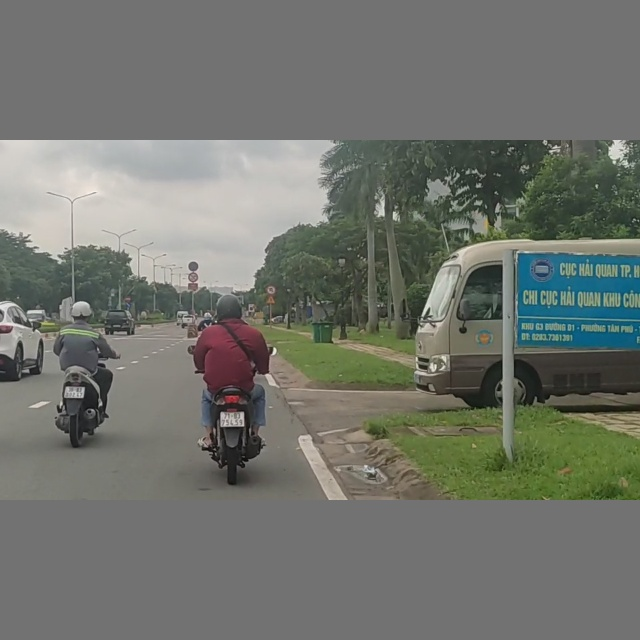P.102: (125, 295, 131, 301)
P.111: (188, 272, 199, 282)
P.124a*: (267, 285, 277, 294)
P.130: (188, 261, 199, 271)
R.302a: (125, 302, 131, 307)
W.224: (266, 296, 276, 304)
